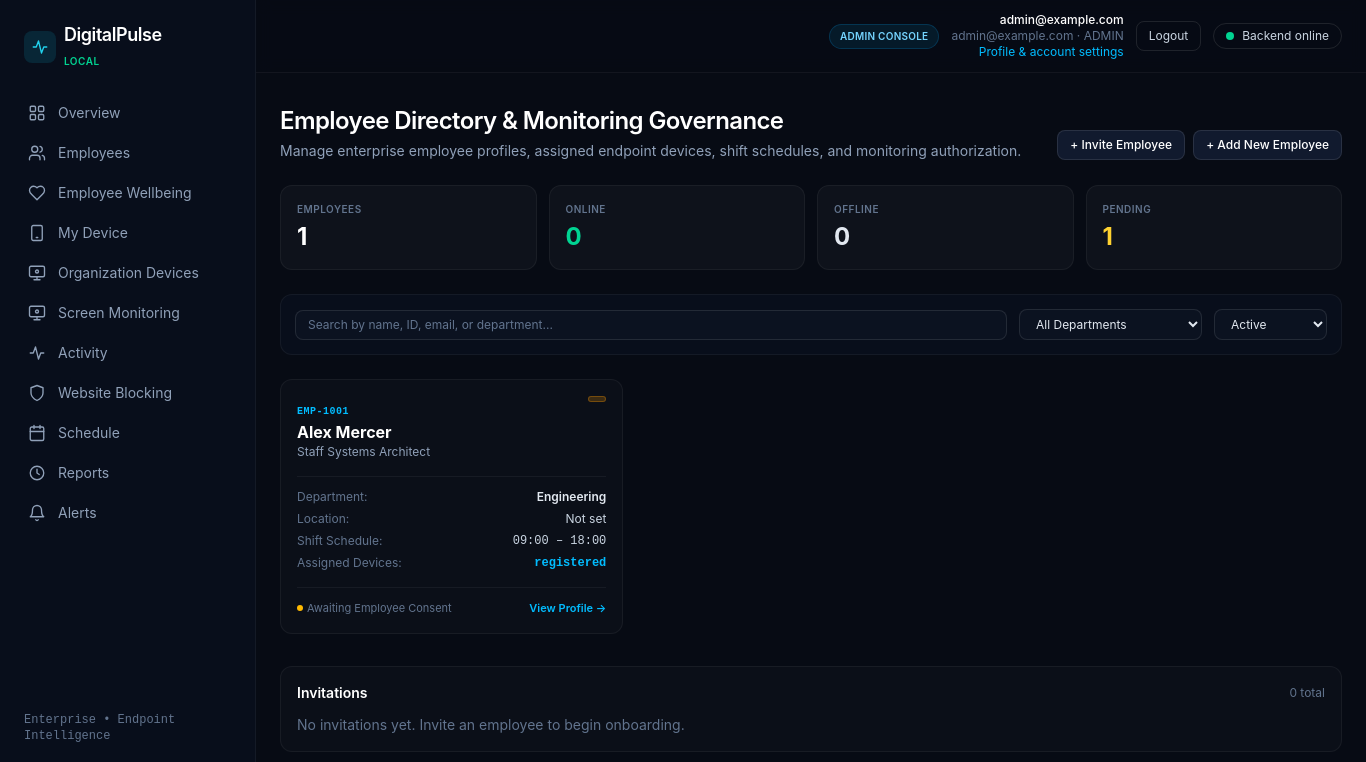
it: dashboard shell and navigation › keeps the employee directory visible when a background refresh fails
This screenshot has width=1366, height=762.
Expected: the heading "Alex Mercer" is shown, [297,422,392,442]
Step 1. Type "Alex" into the field with placeholder "Search by name, ID, email, or department..." → {"x": 651, "y": 324}, box [295,310,1007,340]
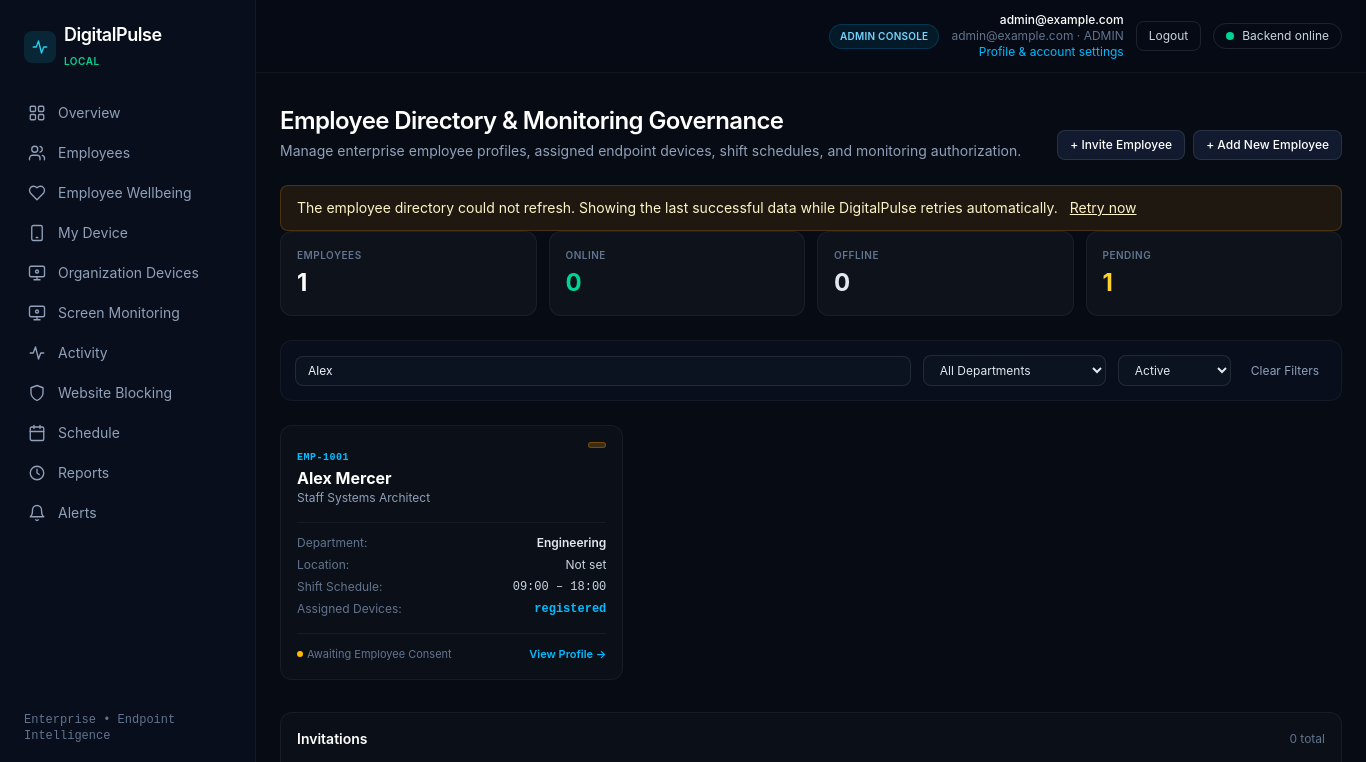
Expected: the heading "Alex Mercer" is shown, [297,468,392,488]
Expected: the text "Showing the last successful data" is shown, [297,199,1062,216]
